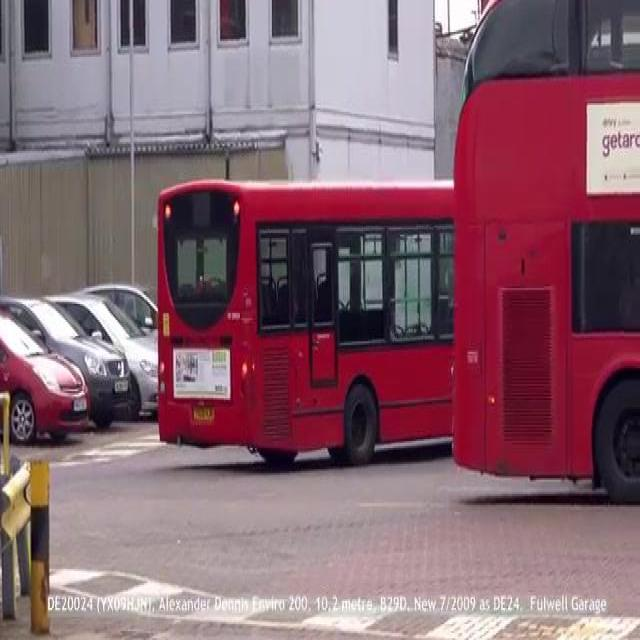motorcycle: (453, 0, 640, 524), (164, 179, 463, 457)
